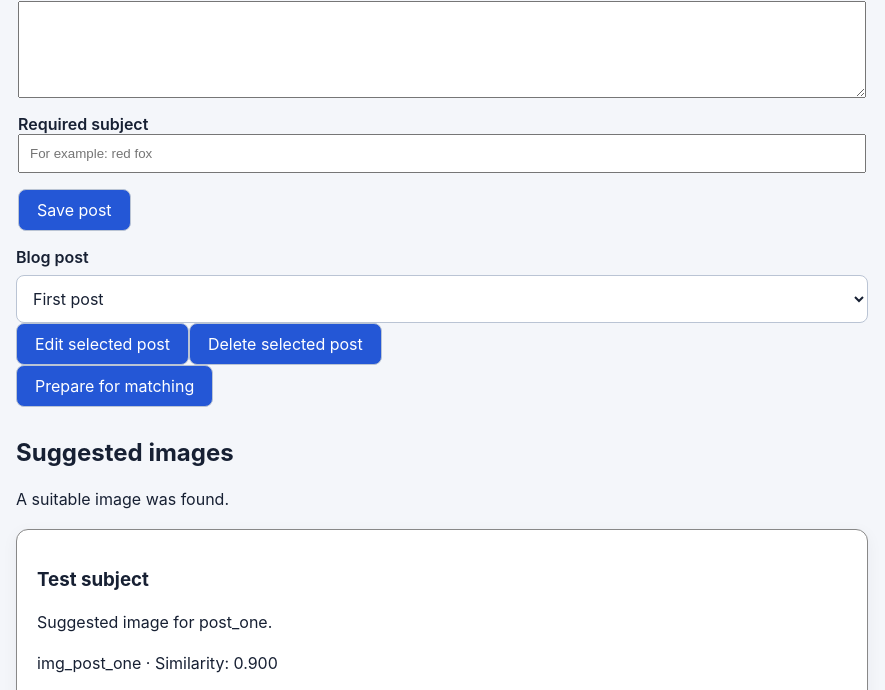
Test: deleting the selected post refreshes the list and selects another
(page scrolled)
Click the button "Delete selected post". click: (285, 344)
box: [189,323,382,365]
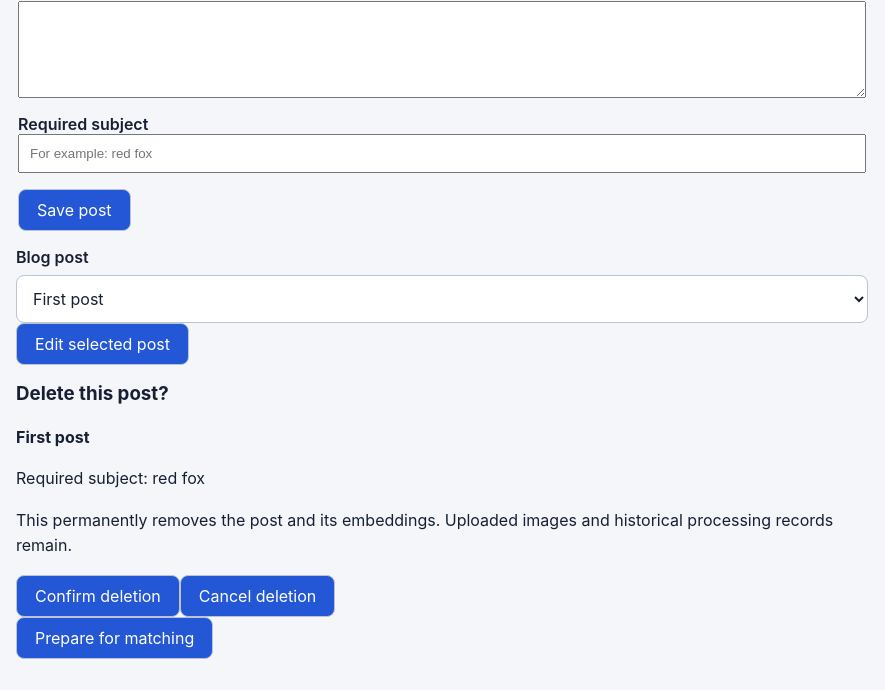
Now the text "First post" is shown, box [16,426,90,446]
Click the button "Confirm deletion". click: (98, 596)
box: [16,575,180,617]
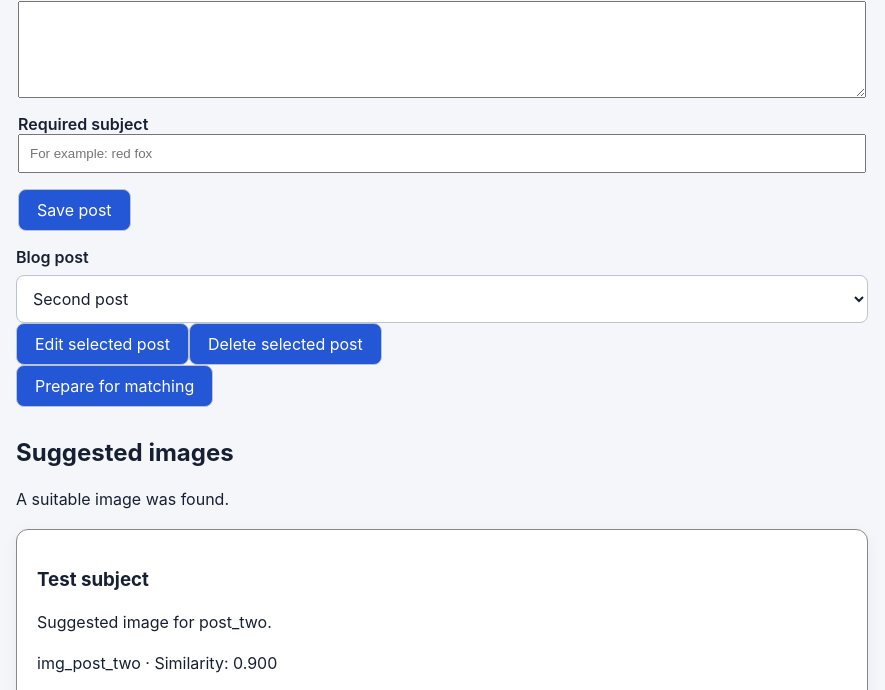
Now the text "First post" is gone
Now the dropdown labelled "Blog post" shows "Second post", box [16,275,868,323]
